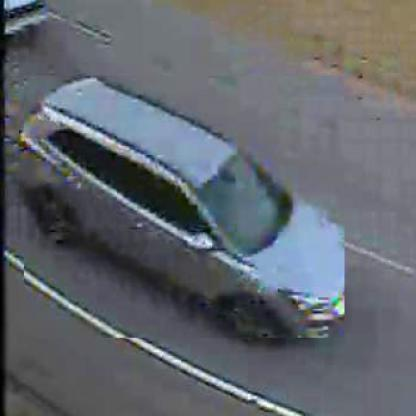car: (25, 77, 347, 340)
